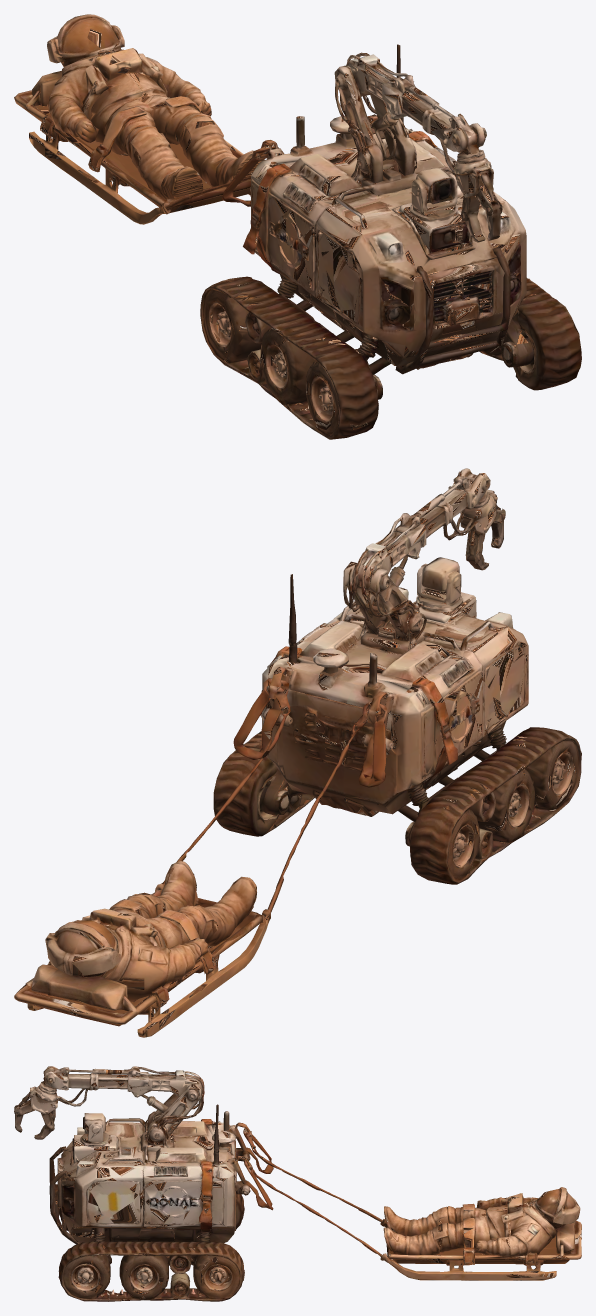
Rendered from rescue-robot-astronaut.glb.
The picture shows the model from 3 angles, top to bottom: view 1: azimuth 30°, elevation 25°; view 2: azimuth 150°, elevation 25°; view 3: azimuth 270°, elevation 25°; orthographic projection. The views are drawn at different scales.
Visible parts, largest first — view 1: tripo_node_d7a654b2-8dfd-4387-8b23-0ae9f044fa43; view 2: tripo_node_d7a654b2-8dfd-4387-8b23-0ae9f044fa43; view 3: tripo_node_d7a654b2-8dfd-4387-8b23-0ae9f044fa43.
Part boxes in pixels (box(x1,y1,x2,y2)): tripo_node_d7a654b2-8dfd-4387-8b23-0ae9f044fa43: box(14, 14, 581, 439); tripo_node_d7a654b2-8dfd-4387-8b23-0ae9f044fa43: box(14, 468, 581, 1037); tripo_node_d7a654b2-8dfd-4387-8b23-0ae9f044fa43: box(14, 1066, 581, 1301).
Bounding box in the file's own units: 0.3129 × 0.3751 × 0.9801.
Materials: 1 (1 with a texture image).
